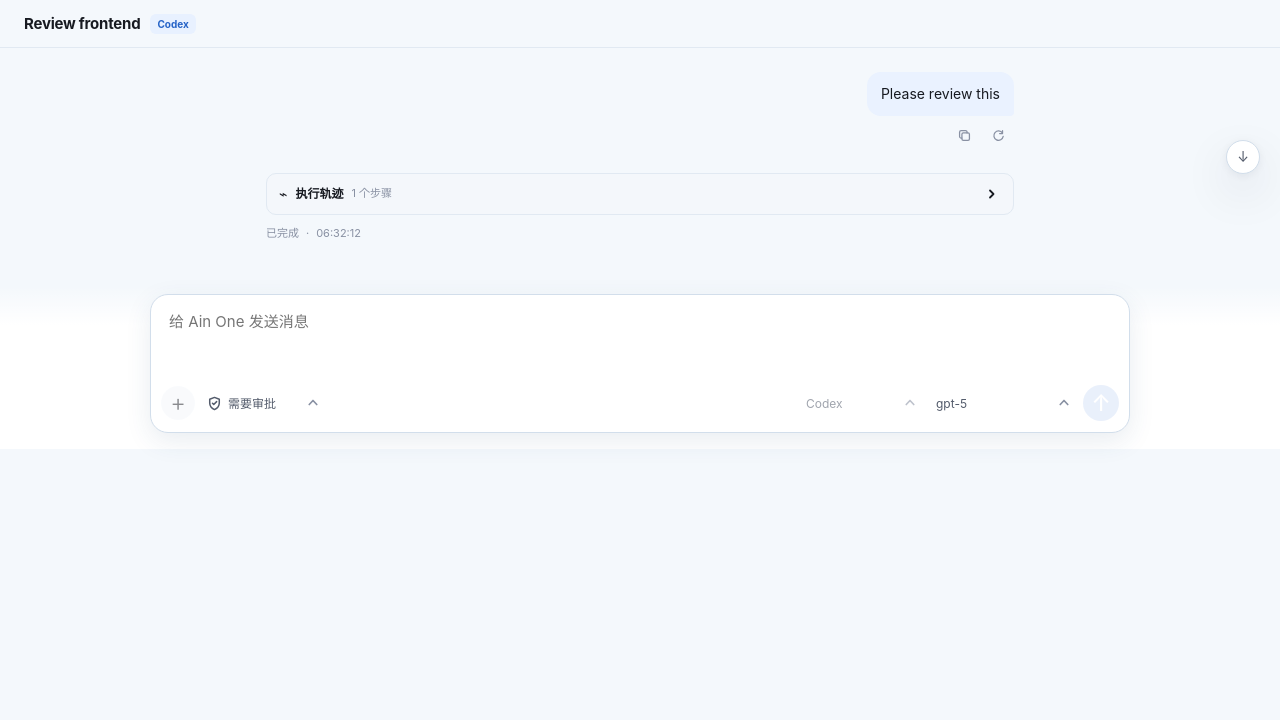
Scenario: DSH conversation surface › shows useful fallback content for native warnings
Click the button with aria-label "展开执行轨迹".
click(319, 194)  # box [267,174,1013,214]
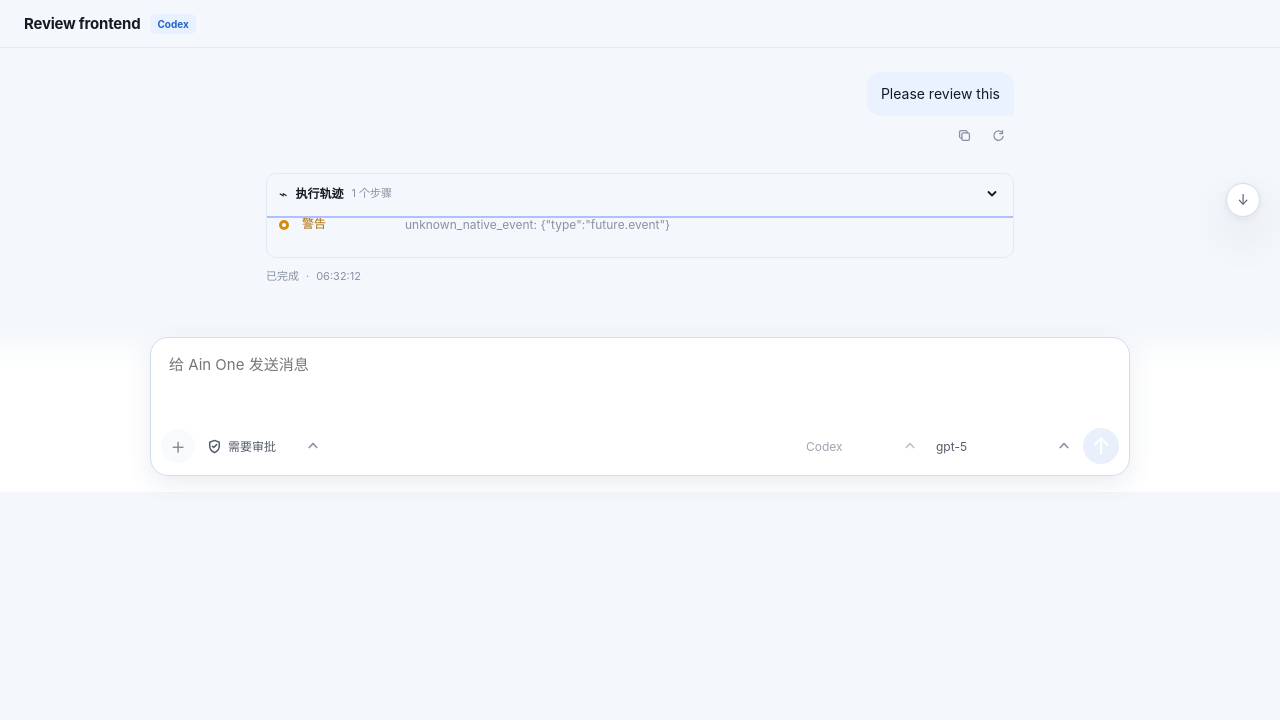
Now the text "unknown_native_event: {\"type\":\"future.event\"}" is shown, box [405,217,670,232]
